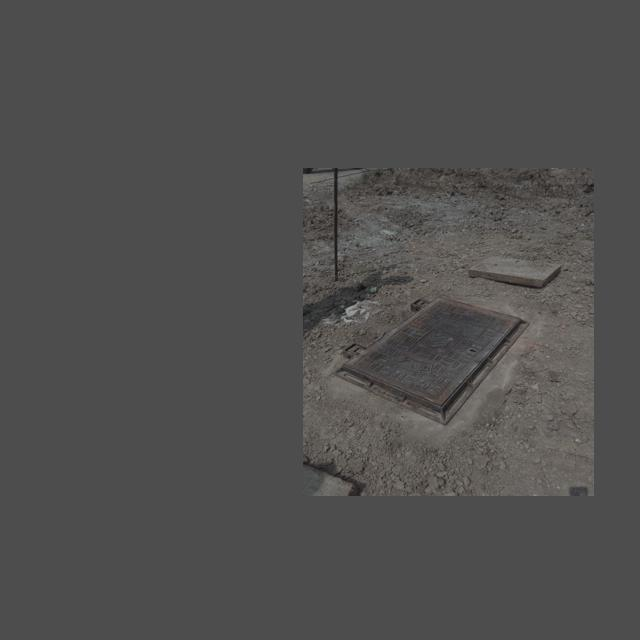good: (343, 295, 517, 417)
